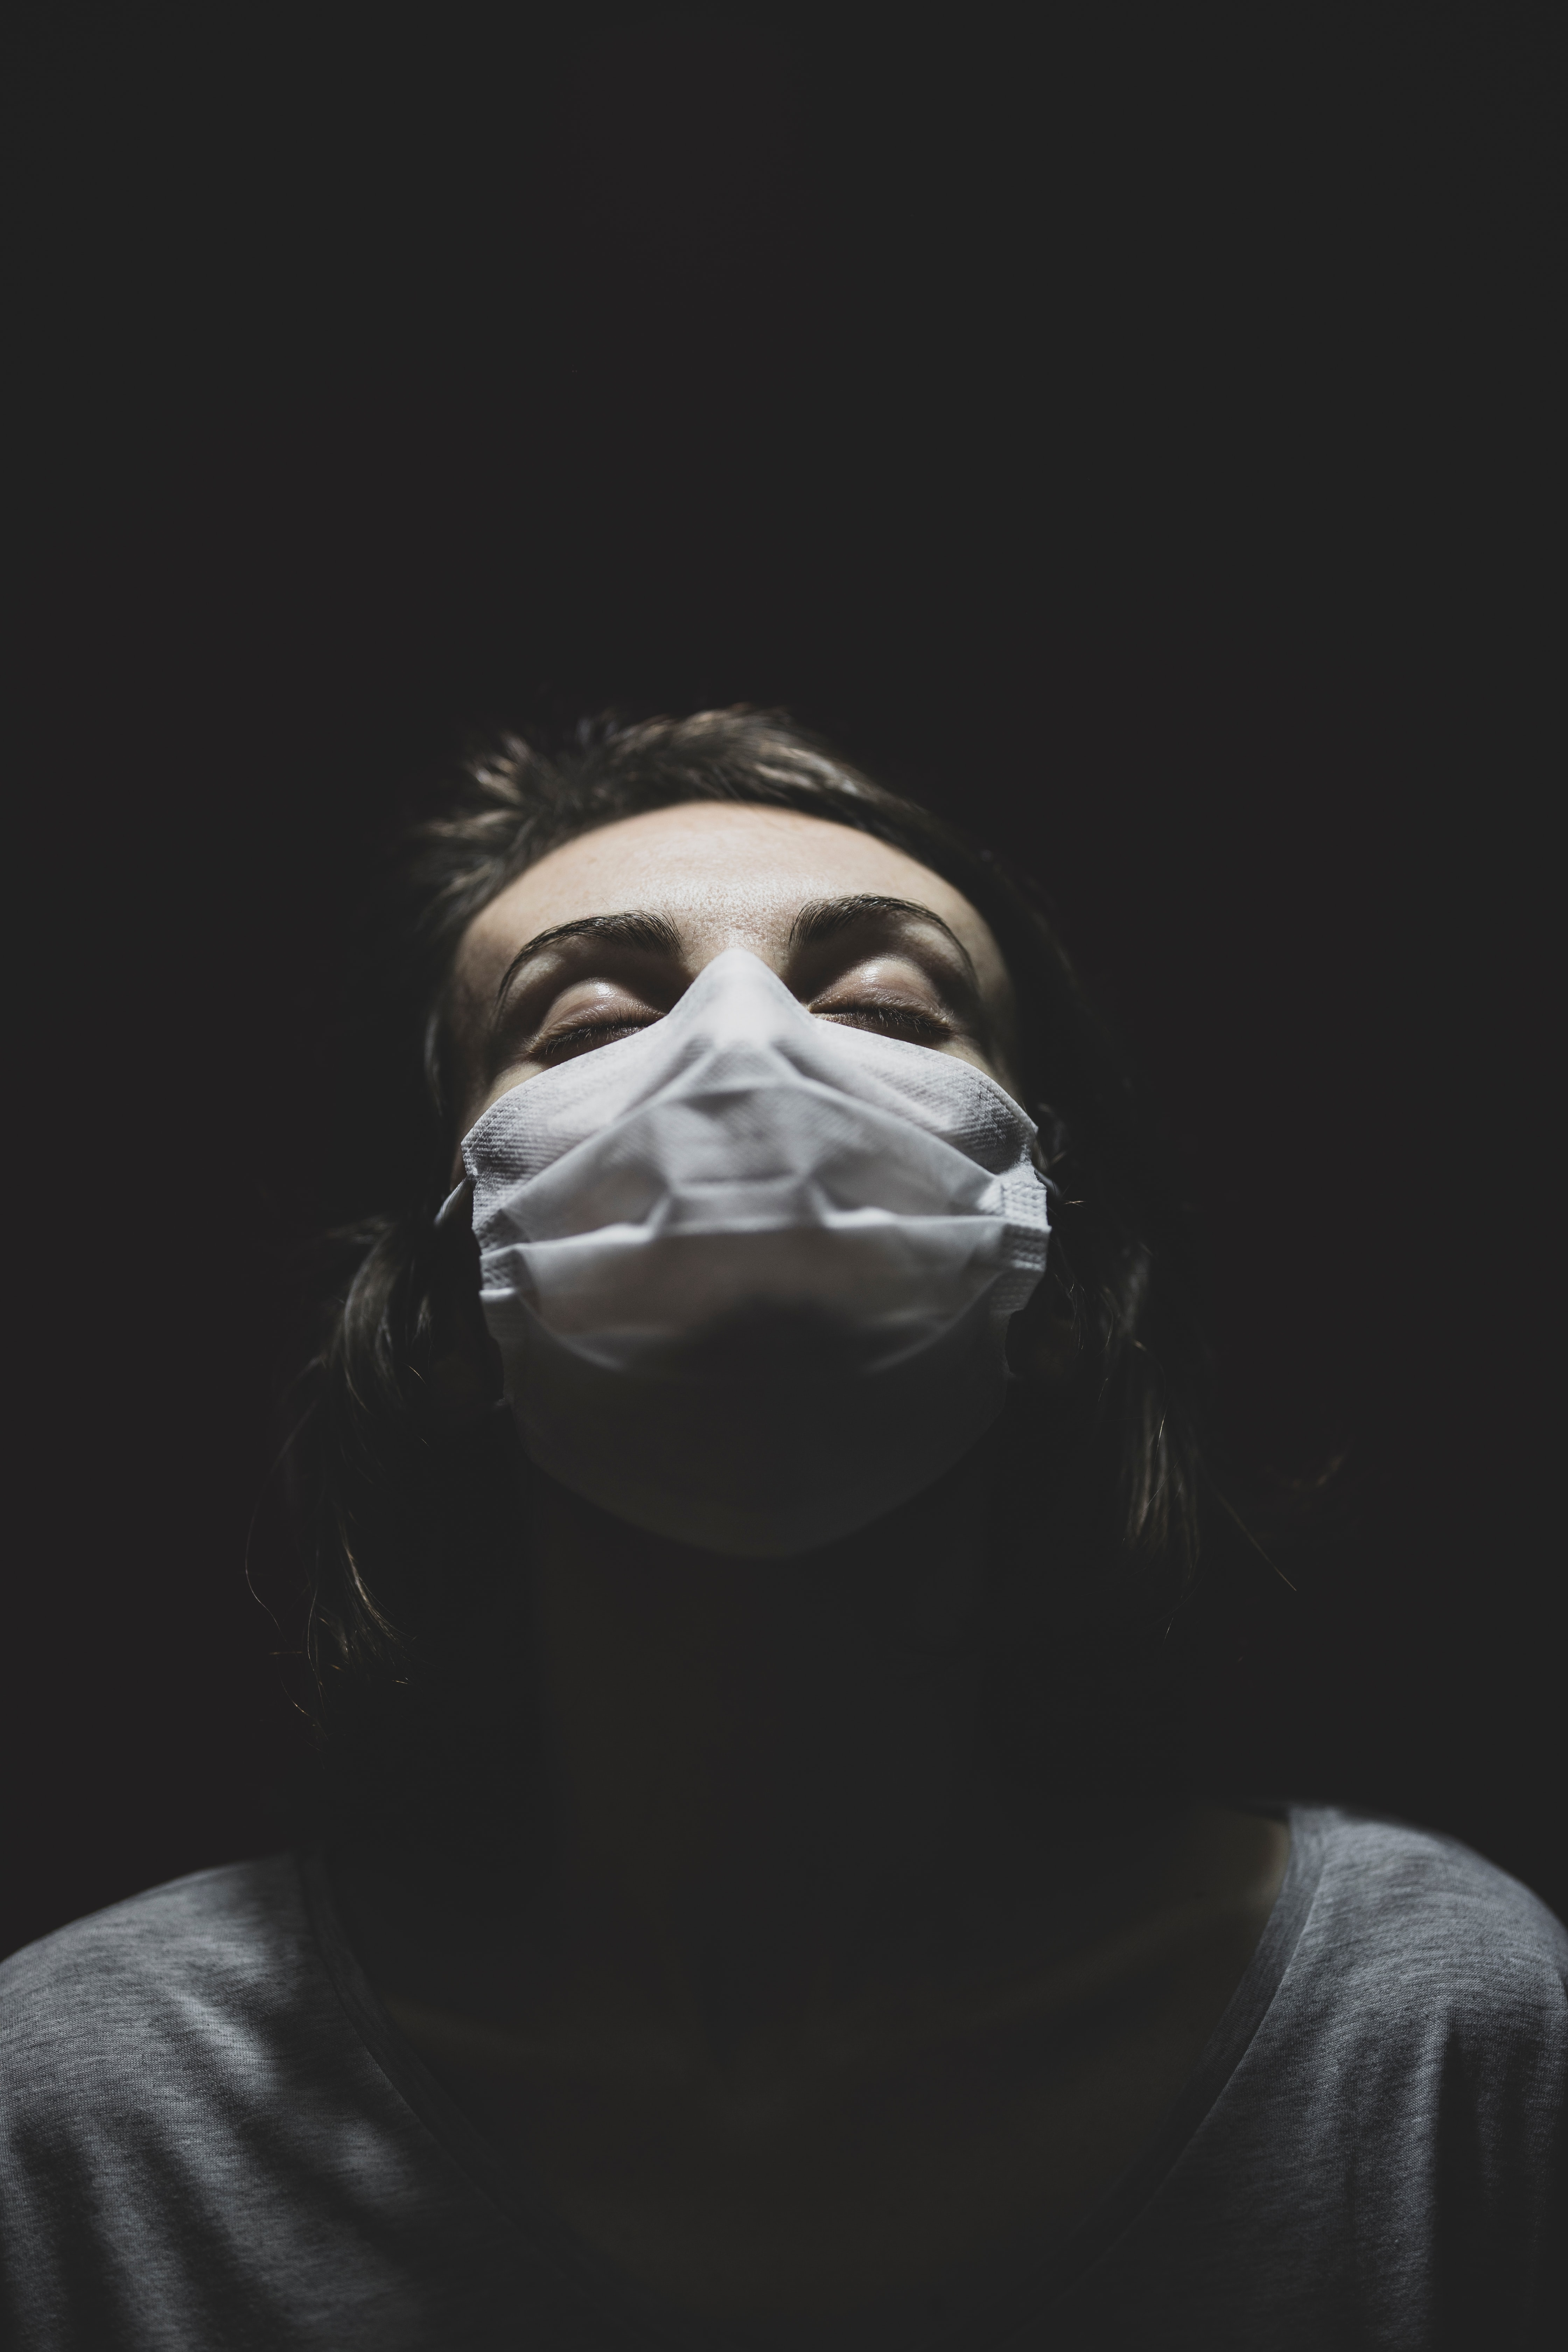mask: (393, 937, 1144, 1533)
person: (22, 636, 1568, 2352)
